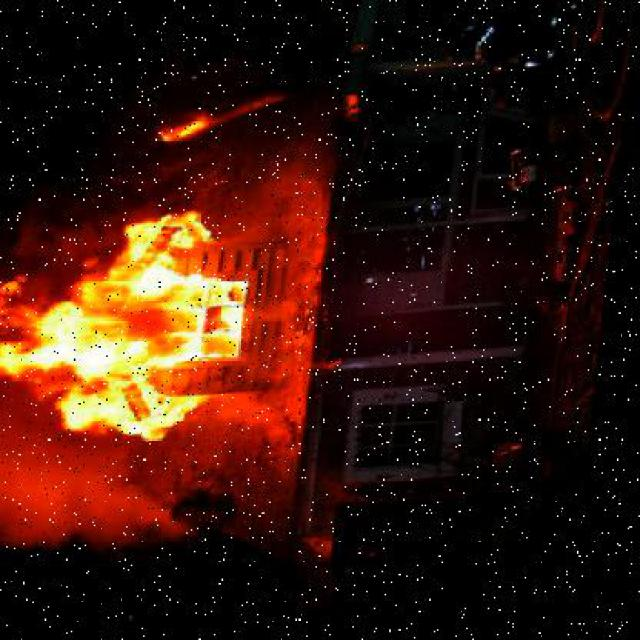fire: (1, 164, 267, 486)
